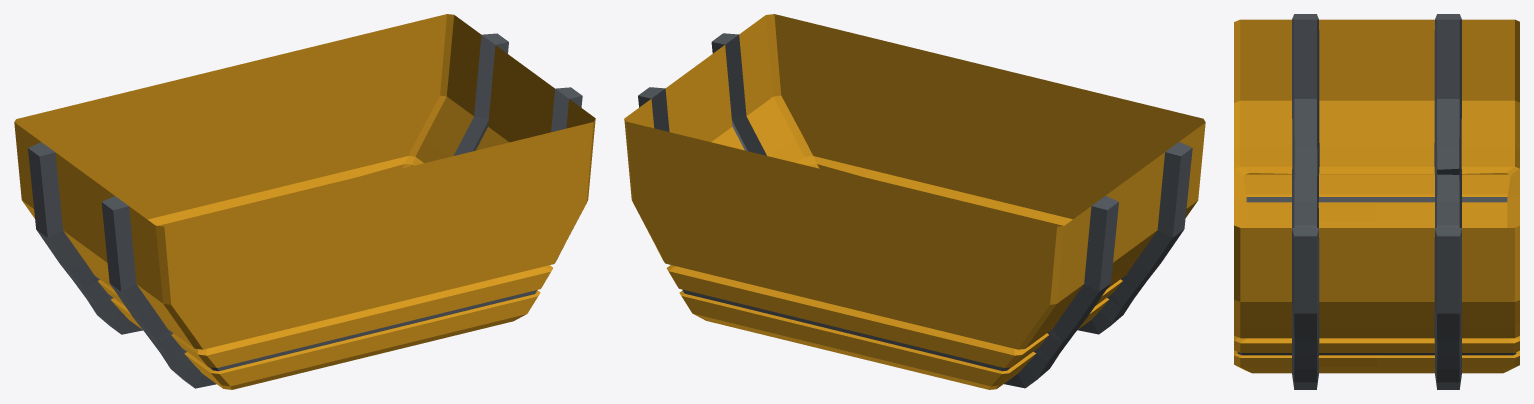
Rendered from Dropship_05_Secondary_Storage_Yellow.fbx.
3 views of the same model, side by side, from view 1: azimuth 30°, elevation 25°; view 2: azimuth 150°, elevation 25°; view 3: azimuth 270°, elevation 25° (orthographic). The views are drawn at different scales.
Parts seen in each view (by area): view 1: Dropship_05_Secondary_Storage_Yellow; view 2: Dropship_05_Secondary_Storage_Yellow; view 3: Dropship_05_Secondary_Storage_Yellow.
Boxes of the visible parts, x1,y1,x2,y2 form: Dropship_05_Secondary_Storage_Yellow: (14, 14, 595, 389); Dropship_05_Secondary_Storage_Yellow: (624, 14, 1205, 389); Dropship_05_Secondary_Storage_Yellow: (1234, 14, 1519, 389).
Size of the model in its own units: 333 by 136 by 181.
1 material, 1 textured.
